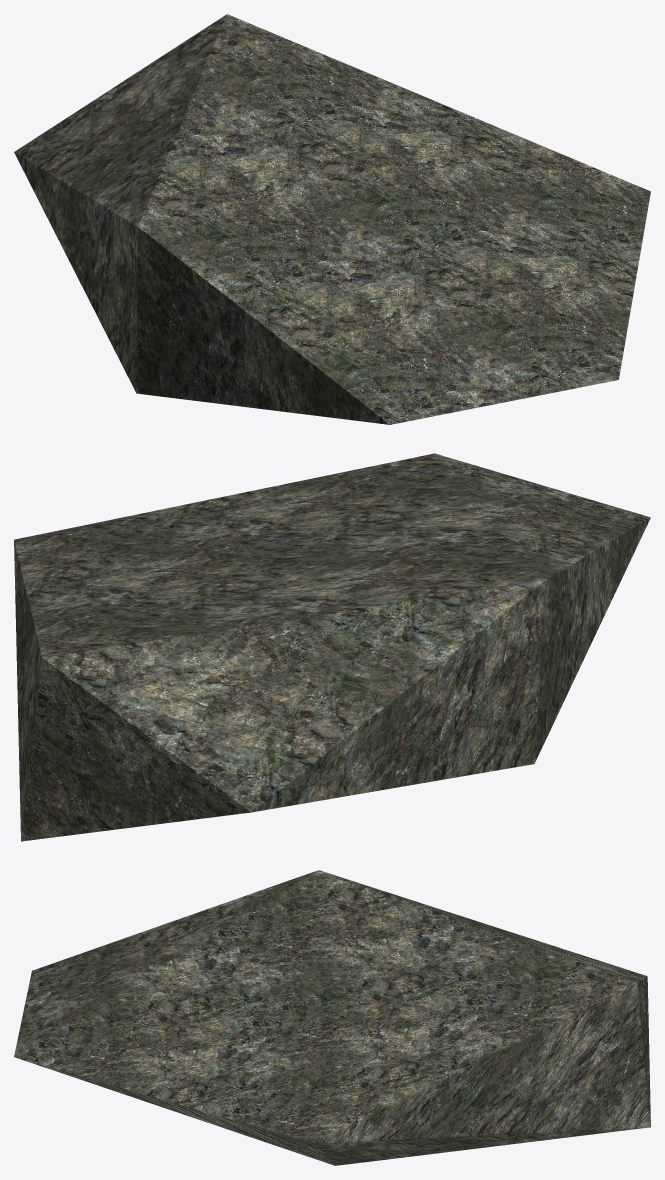
File: mtns_rock_grey_a12_l3.fbx
3 views of the same model, one above another, from view 1: azimuth 30°, elevation 25°; view 2: azimuth 150°, elevation 25°; view 3: azimuth 270°, elevation 25° (orthographic). The views are drawn at different scales.
Visible parts, largest first — view 1: mesh_node; view 2: mesh_node; view 3: mesh_node.
Part boxes in pixels (x1,y1,x2,y2): mesh_node: (14,14,650,424); mesh_node: (14,453,650,841); mesh_node: (14,870,650,1165).
Bounding box in the file's own units: 1.56 × 0.6865 × 2.07.
1 material, 1 textured.
